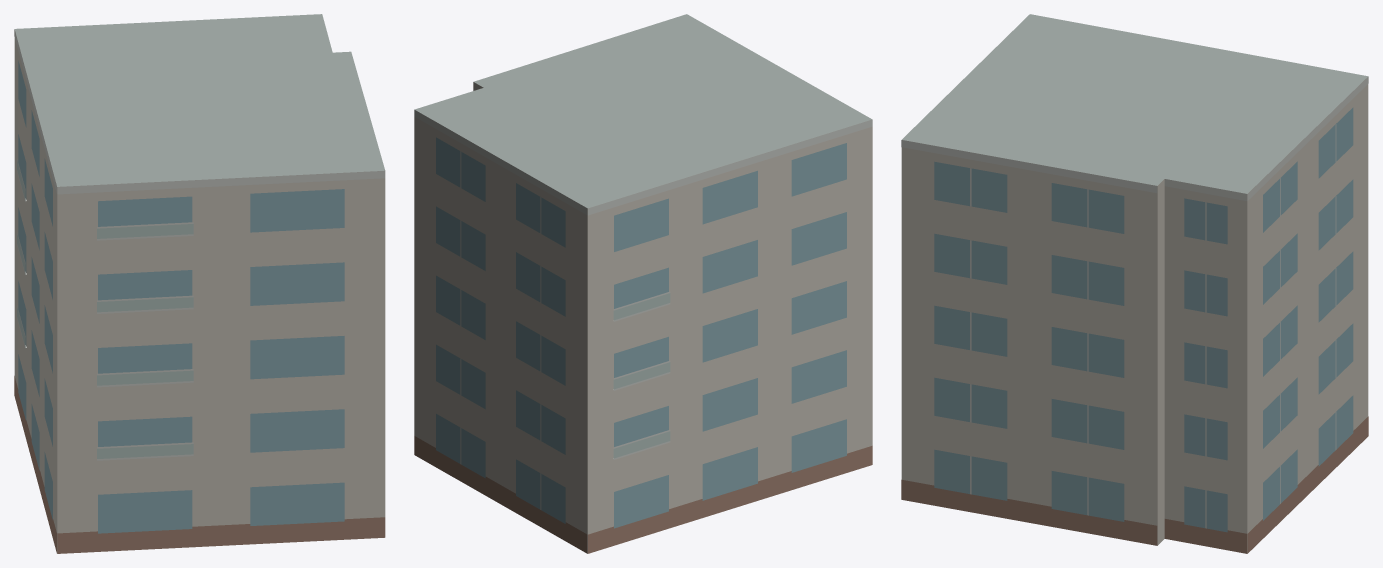
The model's file is survey-upis-32900738.glb.
3 views of the same model, side by side, from view 1: azimuth 30°, elevation 25°; view 2: azimuth 150°, elevation 25°; view 3: azimuth 270°, elevation 25° (orthographic). The views are drawn at different scales.
Parts seen in each view (by area): view 1: survey-upis-32900738.tmp; view 2: survey-upis-32900738.tmp; view 3: survey-upis-32900738.tmp.
Part boxes in pixels (box(x1,y1,x2,y2)): survey-upis-32900738.tmp: box(14, 14, 385, 553); survey-upis-32900738.tmp: box(414, 14, 872, 553); survey-upis-32900738.tmp: box(901, 14, 1368, 553).
Size of the model in its own units: 12.75 by 11.88 by 13.98.
